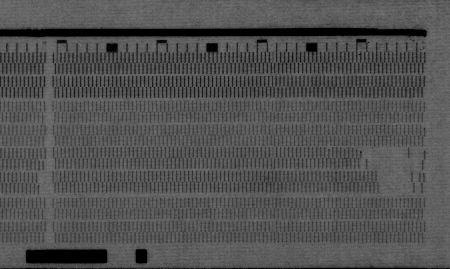Broken hole: (357, 147, 426, 172), (374, 170, 424, 195), (35, 172, 49, 194)
